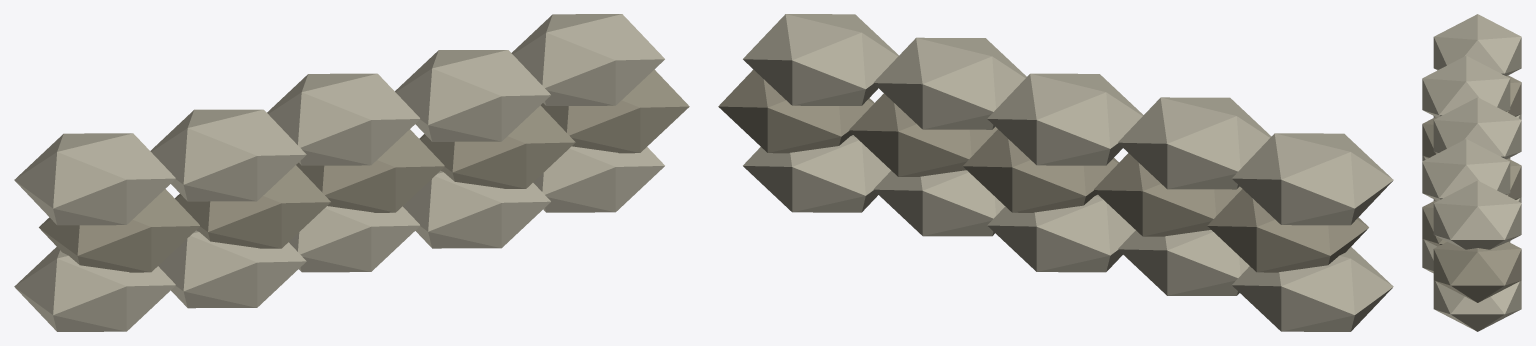
3 renders of one model, left to right at view 1: azimuth 30°, elevation 25°; view 2: azimuth 150°, elevation 25°; view 3: azimuth 270°, elevation 25°, orthographic. The views are drawn at different scales.
Parts seen in each view (by area): view 1: alpine-body; view 2: alpine-body; view 3: alpine-body.
Boxes of the visible parts, <box> form: alpine-body: <box>14,14,689,331</box>; alpine-body: <box>718,14,1393,331</box>; alpine-body: <box>1422,14,1521,331</box>.
Bounding box in the file's own units: 3.12 × 0.8445 × 0.6059.
